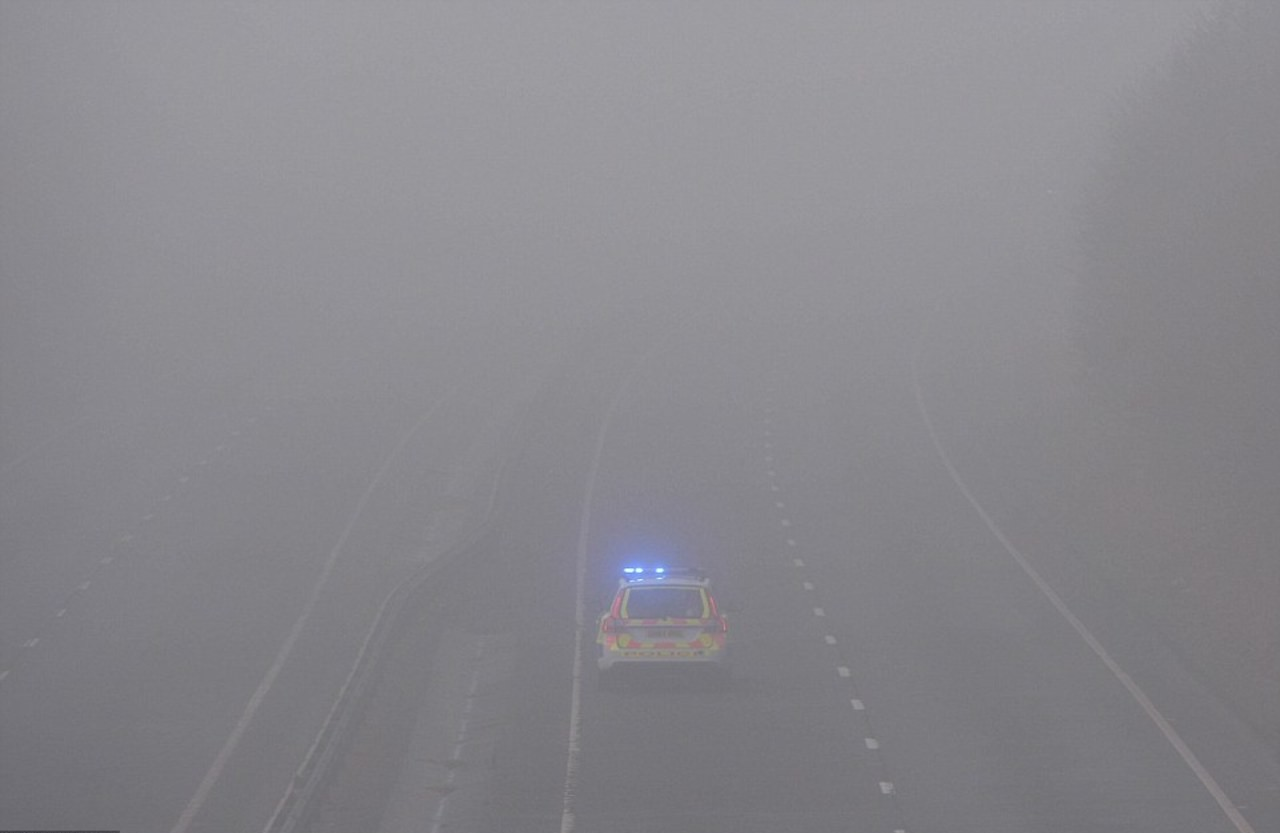car: (593, 573, 729, 680)
